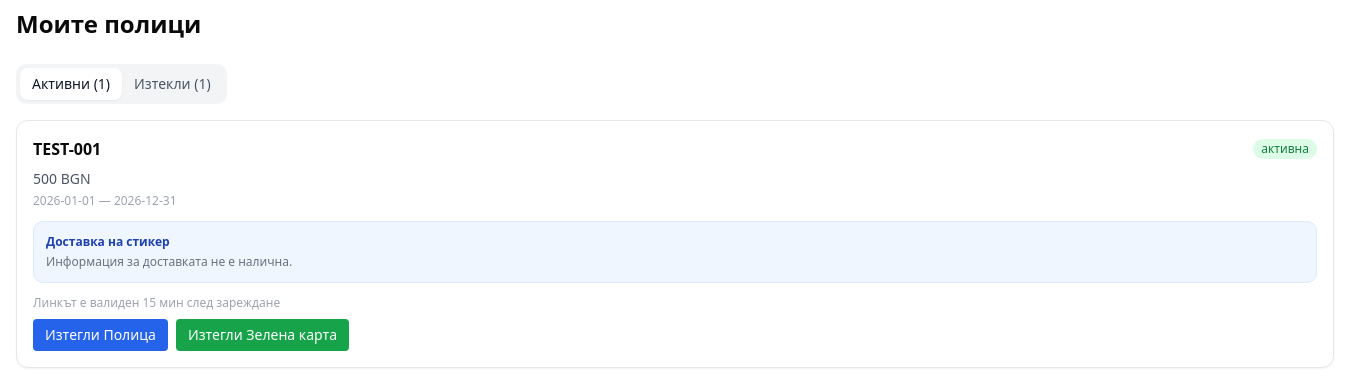
Test case: PolicyWalletPage › renders download buttons for each policy
This screenshot has width=1351, height=385.
Expected: the number of buttons "Изтегли Полица" is 1, [33,319,168,351]
Expected: the number of buttons "Изтегли Зелена карта" is 1, [176,319,349,351]
Click the button "Изтекли (1)": (172, 84) [122,68,223,100]
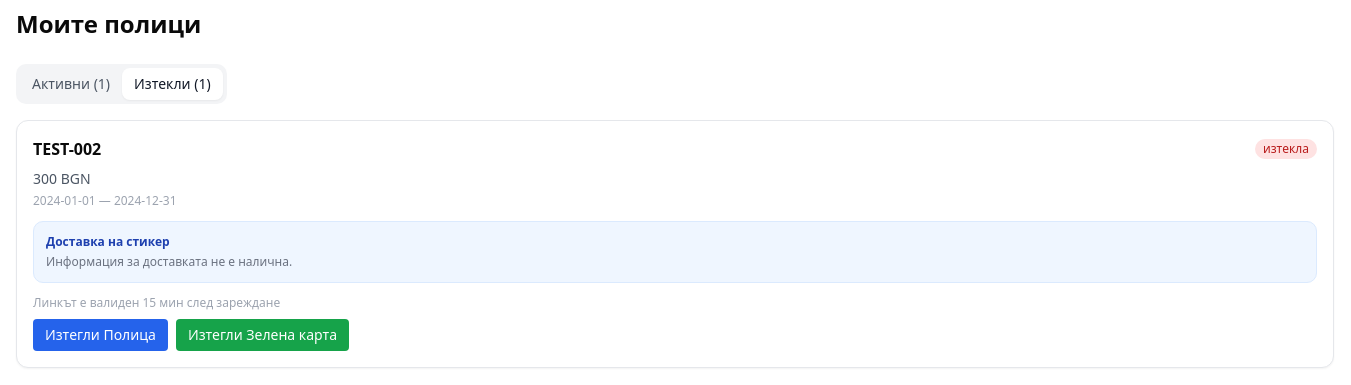
Expected: the text "TEST-002" is shown, [33,137,101,161]
